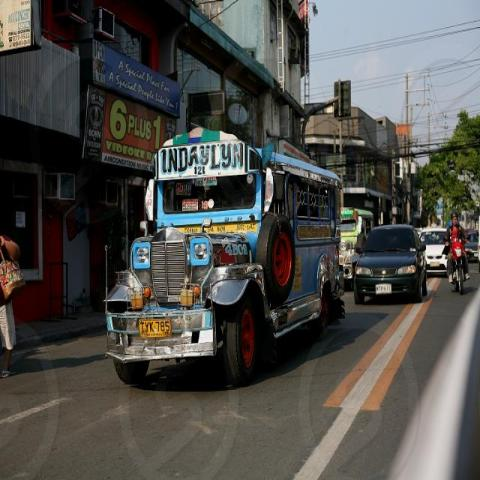car: (354, 221, 423, 304), (417, 228, 457, 273)
jeepney: (107, 140, 343, 384)
motorcycle: (445, 222, 468, 292)
